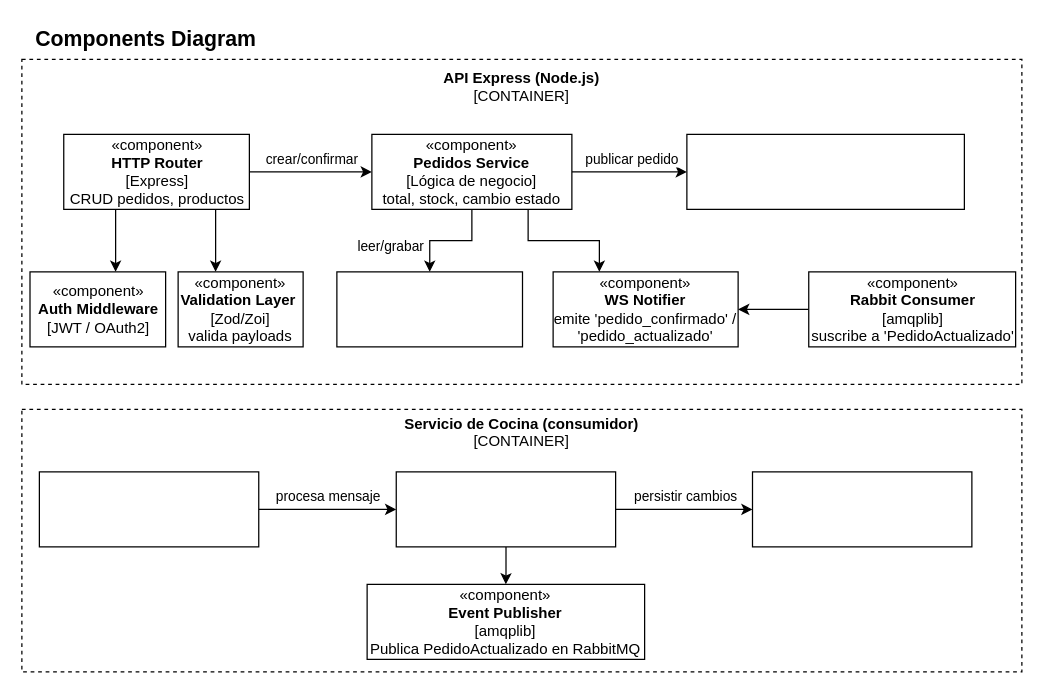
This 1044x694 diagram has some shape labels left out. The centre of each missing label's shape, as x and y in pixels:
«component» Cocina Service transiciones de estado: preparado / listo: [505,509]
«component» Event Publisher [amqplib] Publica PedidoConfirmado en RabbitMQ: [825,171]
«component» Rabbit Consumer [amqplib] suscribe a 'PedidoConfirmado': [148,509]
«component» Repositorio Mongo [Mongoose] Actualiza estado del pedido: [861,509]
«component» Repositorio Mongo [Mongoose] CRUD pedidos/productos: [429,309]
